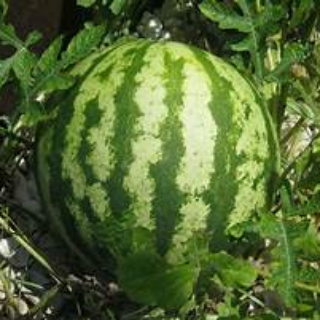dua_hau: (30, 36, 283, 291)
